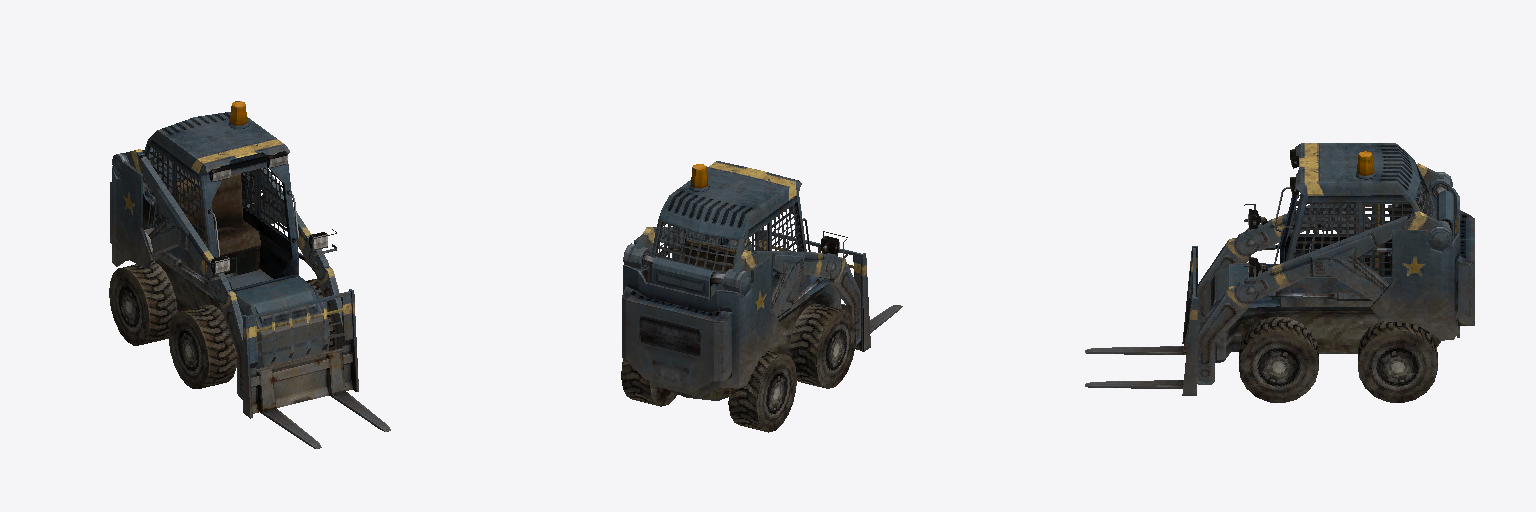
3 renders of one model, left to right at view 1: azimuth 30°, elevation 25°; view 2: azimuth 150°, elevation 25°; view 3: azimuth 270°, elevation 25°, orthographic.
Bounding box in the file's own units: 1.89 × 3.04 × 4.71.
Materials: 1 (1 with a texture image).